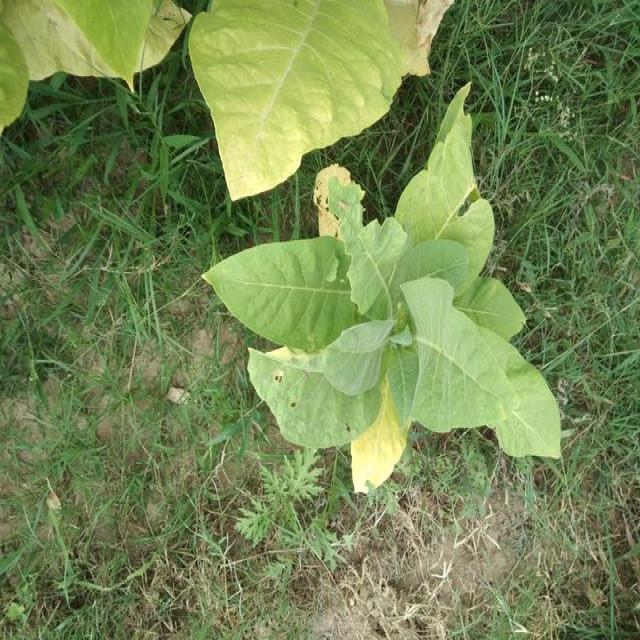crop: (205, 85, 569, 483)
